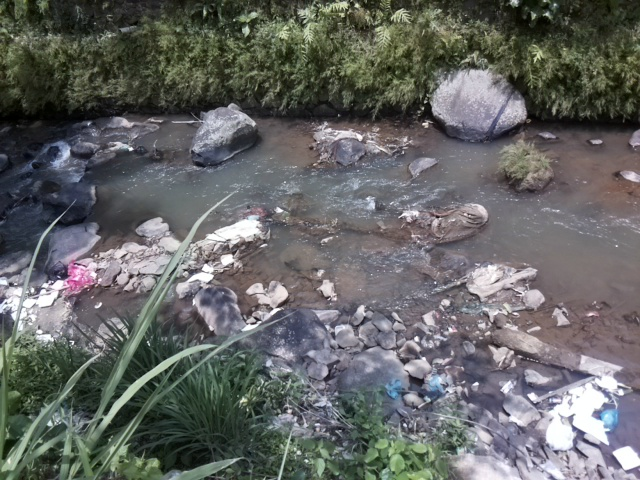Sampah_Plastik: (62, 260, 95, 296), (547, 414, 575, 455), (598, 408, 620, 436), (46, 261, 68, 284)
Sampah_Styrofoam: (561, 381, 604, 446), (611, 444, 640, 474), (23, 293, 58, 310)
